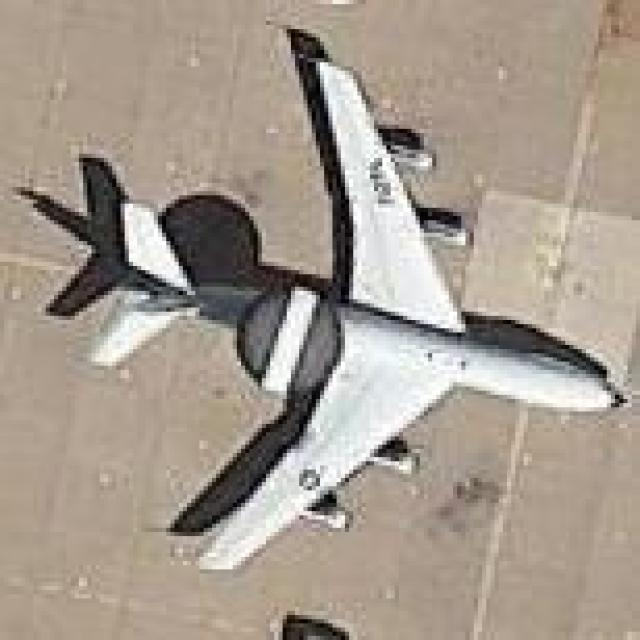E-3_TopDown: (13, 16, 632, 574)
